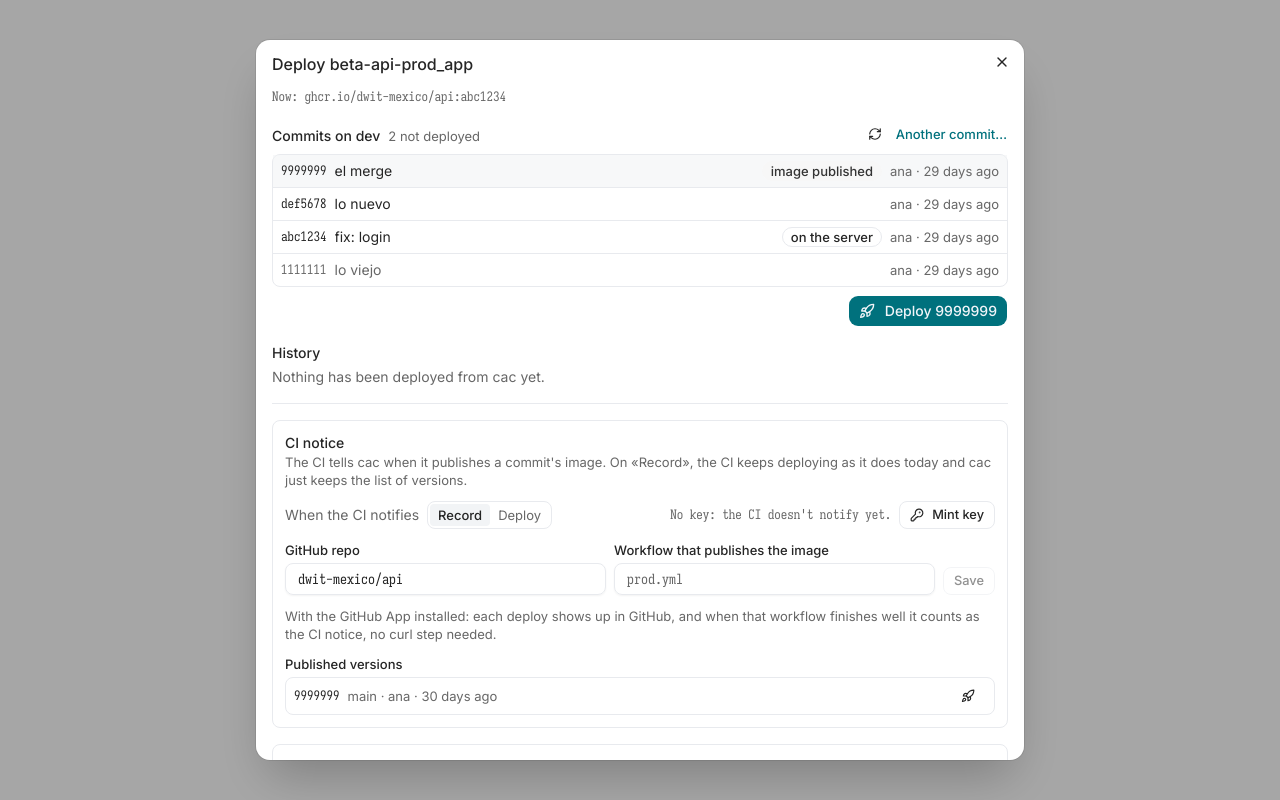
qué commit se despliega › un commit nuevo refresca la lista y queda elegido; y también el botón
This screenshot has width=1280, height=800.
Expected: the option "9999999 el merge image published ana · 29 days ago" is shown, [273,155,1007,188]
Expected: the text "2 not deployed" is shown, [388,128,480,144]
Click the button named "Refresh the list" at (875, 134), box [863,122,887,146]
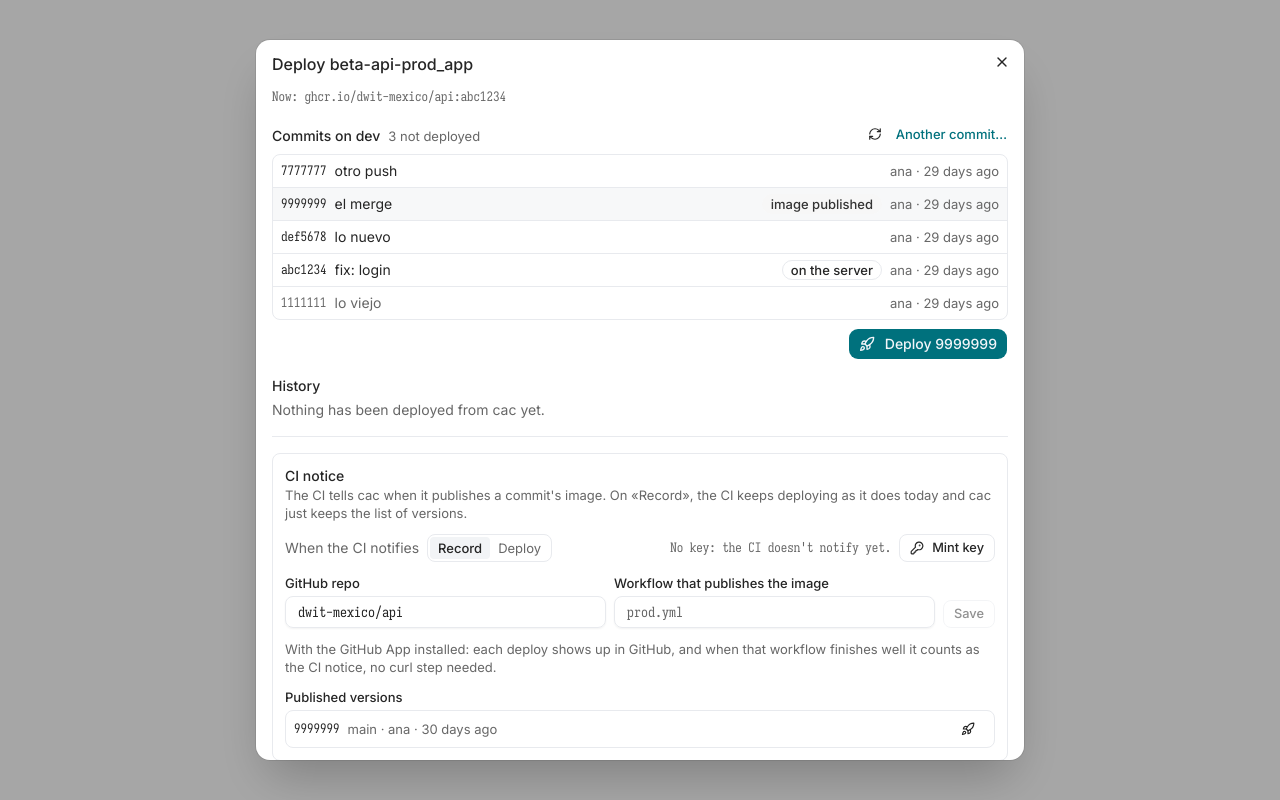
Expected: the option "7777777 otro push ana · 29 days ago" is shown, [273,155,1007,188]
